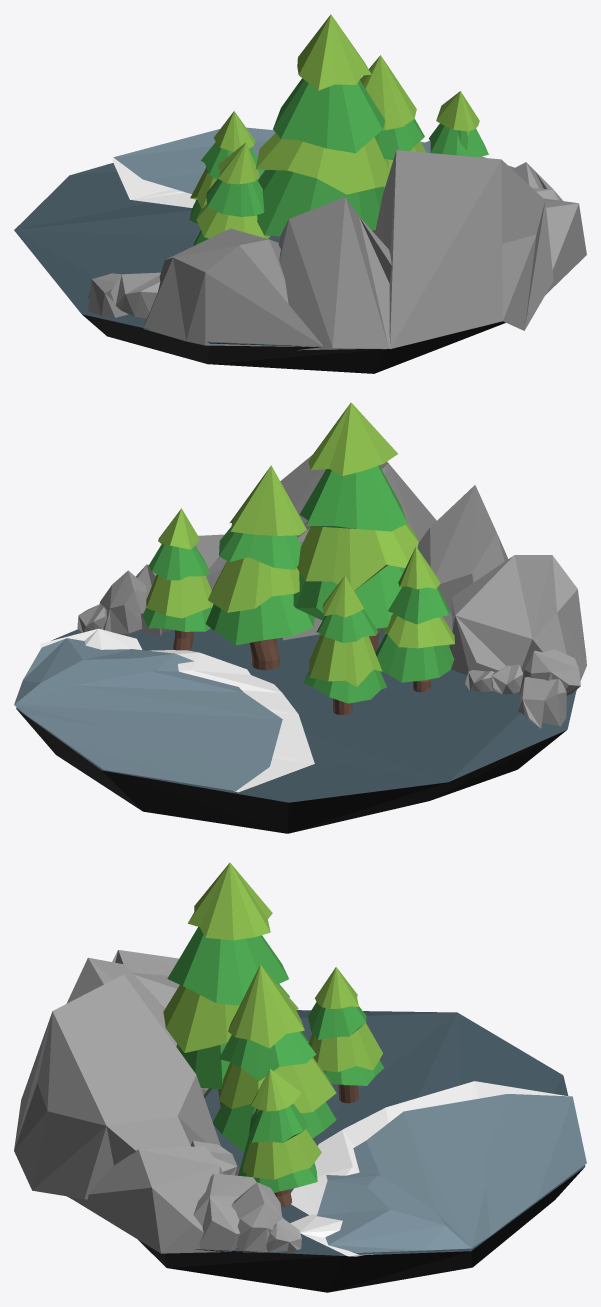
The picture shows the model from 3 angles, top to bottom: view 1: azimuth 30°, elevation 25°; view 2: azimuth 150°, elevation 25°; view 3: azimuth 270°, elevation 25°; orthographic projection. The views are drawn at different scales.
Visible parts, largest first — view 1: group784906311; view 2: group784906311; view 3: group784906311.
Boxes of the visible parts, <box> form: group784906311: <box>14,14,586,373</box>; group784906311: <box>14,402,586,833</box>; group784906311: <box>14,862,586,1292</box>.
Size of the model in its own units: 0.2774 by 0.1693 by 0.2758.
1 material, 1 textured.
